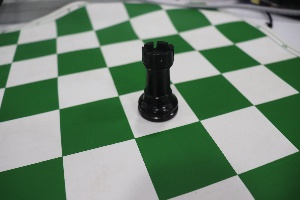black_rook: (123, 26, 188, 128)
